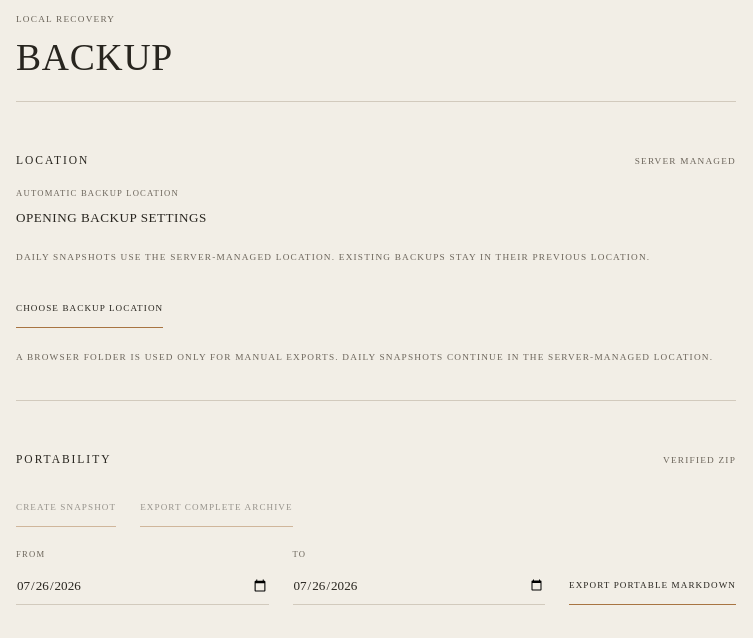
BackupSettings › retains a browser directory handle for manual exports and never sends its name to the server
expect the text named "Automatic backup location" is shown: met, box [16,210,207,225]
Click the button "CHOOSE BACKUP LOCATION" at (90, 308), box [16,288,163,328]
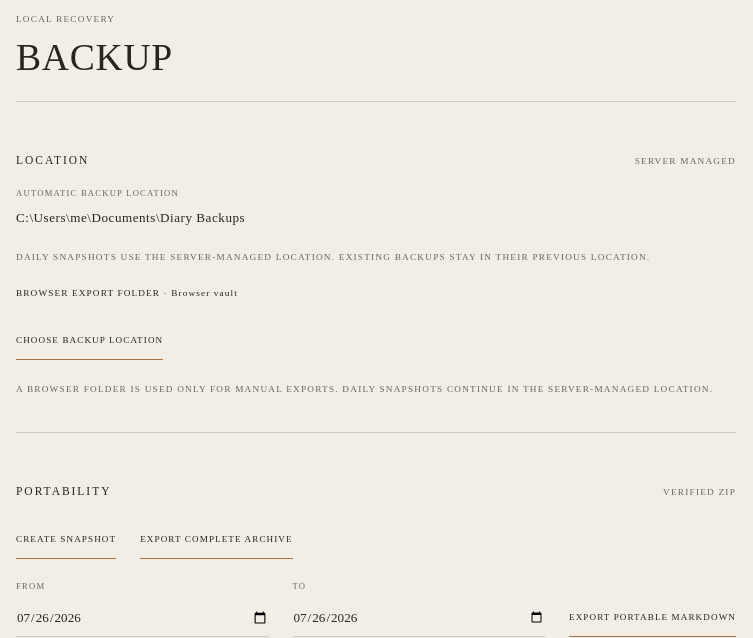
expect the text "BROWSER EXPORT FOLDER · Browser vault" is shown: met, box [16,288,238,298]
